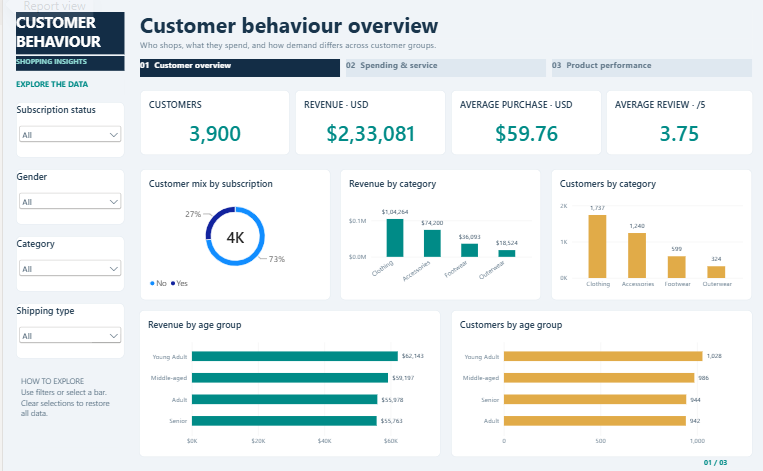

This screenshot's page, from the dashboard's own definition file:
{"tool":"powerbi","page":{"name":"01  Customer overview","canvas":[1440,900],"ordinal":0},"visuals":[{"type":"textbox","box":[24,28,205,80],"z":1},{"type":"textbox","box":[24,112,205,28],"z":2},{"type":"textbox","box":[24,155,205,30],"z":3},{"type":"textbox","box":[258,25,1158,54],"z":4},{"type":"textbox","box":[258,79,1158,30],"z":5},{"type":"textbox","box":[258,118,378,34],"z":6},{"type":"textbox","box":[648,118,378,34],"z":7},{"type":"textbox","box":[1038,118,378,34],"z":8},{"type":"textbox","box":[258,870,1080,22],"z":9},{"type":"textbox","box":[1325,870,90,22],"z":10},{"type":"slicer","title":"Subscription status","fields":{"Values":["{\"Column\":{\"Expression\":{\"SourceRef\":{\"Entity\":\"customers\"}},\"Property\":\"subscription_status\"}}"]},"box":[24,198,205,105],"z":11},{"type":"slicer","title":"Gender","fields":{"Values":["{\"Column\":{\"Expression\":{\"SourceRef\":{\"Entity\":\"customers\"}},\"Property\":\"gender\"}}"]},"box":[24,325,205,105],"z":12},{"type":"slicer","title":"Category","fields":{"Values":["{\"Column\":{\"Expression\":{\"SourceRef\":{\"Entity\":\"customers\"}},\"Property\":\"category\"}}"]},"box":[24,452,205,105],"z":13},{"type":"slicer","title":"Shipping type","fields":{"Values":["{\"Column\":{\"Expression\":{\"SourceRef\":{\"Entity\":\"customers\"}},\"Property\":\"shipping_type\"}}"]},"box":[24,579,205,105],"z":14},{"type":"textbox","box":[34,717,185,135],"z":15},{"type":"card","title":"CUSTOMERS","fields":{"Values":["{\"Measure\":{\"Expression\":{\"SourceRef\":{\"Entity\":\"customers\"}},\"Property\":\"Number of Customers\"}}"]},"box":[258.9,175.7,283.5,122.8],"z":16},{"type":"card","title":"REVENUE · USD","fields":{"Values":["{\"Aggregation\":{\"Expression\":{\"Column\":{\"Expression\":{\"SourceRef\":{\"Entity\":\"customers\"}},\"Property\":\"purchase_amount\"}}"]},"box":[551.8,175.7,285.4,122.8],"z":17},{"type":"card","title":"AVERAGE PURCHASE · USD","fields":{"Values":["{\"Measure\":{\"Expression\":{\"SourceRef\":{\"Entity\":\"customers\"}},\"Property\":\"Average Purchase Amount\"}}"]},"box":[846.6,175.7,285.4,122.8],"z":18},{"type":"card","title":"AVERAGE REVIEW · /5","fields":{"Values":["{\"Measure\":{\"Expression\":{\"SourceRef\":{\"Entity\":\"customers\"}},\"Property\":\"Average Review Rating\"}}"]},"box":[1139.5,175.7,277.8,122.8],"z":19},{"type":"donutChart","title":"Customer mix by subscription","fields":{"Category":["{\"Column\":{\"Expression\":{\"SourceRef\":{\"Entity\":\"customers\"}},\"Property\":\"subscription_status\"}}"],"Y":["{\"Measure\":{\"Expression\":{\"SourceRef\":{\"Entity\":\"customers\"}},\"Property\":\"Number of Customers\"}}"]},"box":[258.9,325,360,248],"z":20},{"type":"clusteredColumnChart","title":"Revenue by category","fields":{"Category":["{\"Column\":{\"Expression\":{\"SourceRef\":{\"Entity\":\"customers\"}},\"Property\":\"category\"}}"],"Y":["{\"Aggregation\":{\"Expression\":{\"Column\":{\"Expression\":{\"SourceRef\":{\"Entity\":\"customers\"}},\"Property\":\"purchase_amount\"}}"]},"box":[636.9,325,380,248],"z":21},{"type":"clusteredColumnChart","title":"Customers by category","fields":{"Category":["{\"Column\":{\"Expression\":{\"SourceRef\":{\"Entity\":\"customers\"}},\"Property\":\"category\"}}"],"Y":["{\"Measure\":{\"Expression\":{\"SourceRef\":{\"Entity\":\"customers\"}},\"Property\":\"Number of Customers\"}}"]},"box":[1035.6,325,380,248],"z":22},{"type":"clusteredBarChart","title":"Revenue by age group","fields":{"Category":["{\"Column\":{\"Expression\":{\"SourceRef\":{\"Entity\":\"customers\"}},\"Property\":\"age_group\"}}"],"Y":["{\"Aggregation\":{\"Expression\":{\"Column\":{\"Expression\":{\"SourceRef\":{\"Entity\":\"customers\"}},\"Property\":\"purchase_amount\"}}"]},"box":[257,591.5,570,278],"z":23},{"type":"clusteredBarChart","title":"Customers by age group","fields":{"Category":["{\"Column\":{\"Expression\":{\"SourceRef\":{\"Entity\":\"customers\"}},\"Property\":\"age_group\"}}"],"Y":["{\"Measure\":{\"Expression\":{\"SourceRef\":{\"Entity\":\"customers\"}},\"Property\":\"Number of Customers\"}}"]},"box":[846.6,591.5,570,278],"z":24}]}

Visuals, with their boxes in screenshot pixels (x1, y1, x2, y2), scaled from the page's 1440x900 canvas onto the 763x471 screenshot:
textbox: region(13, 15, 121, 57)
textbox: region(13, 59, 121, 73)
textbox: region(13, 81, 121, 97)
textbox: region(137, 13, 750, 41)
textbox: region(137, 41, 750, 57)
textbox: region(137, 62, 337, 80)
textbox: region(343, 62, 544, 80)
textbox: region(550, 62, 750, 80)
textbox: region(137, 455, 709, 467)
textbox: region(702, 455, 750, 467)
"Subscription status" slicer: region(13, 104, 121, 159)
"Gender" slicer: region(13, 170, 121, 225)
"Category" slicer: region(13, 237, 121, 291)
"Shipping type" slicer: region(13, 303, 121, 358)
textbox: region(18, 375, 116, 446)
"CUSTOMERS" card: region(137, 92, 287, 156)
"REVENUE · USD" card: region(292, 92, 444, 156)
"AVERAGE PURCHASE · USD" card: region(449, 92, 600, 156)
"AVERAGE REVIEW · /5" card: region(604, 92, 751, 156)
"Customer mix by subscription" donutChart: region(137, 170, 328, 300)
"Revenue by category" clusteredColumnChart: region(337, 170, 539, 300)
"Customers by category" clusteredColumnChart: region(549, 170, 750, 300)
"Revenue by age group" clusteredBarChart: region(136, 310, 438, 455)
"Customers by age group" clusteredBarChart: region(449, 310, 751, 455)
